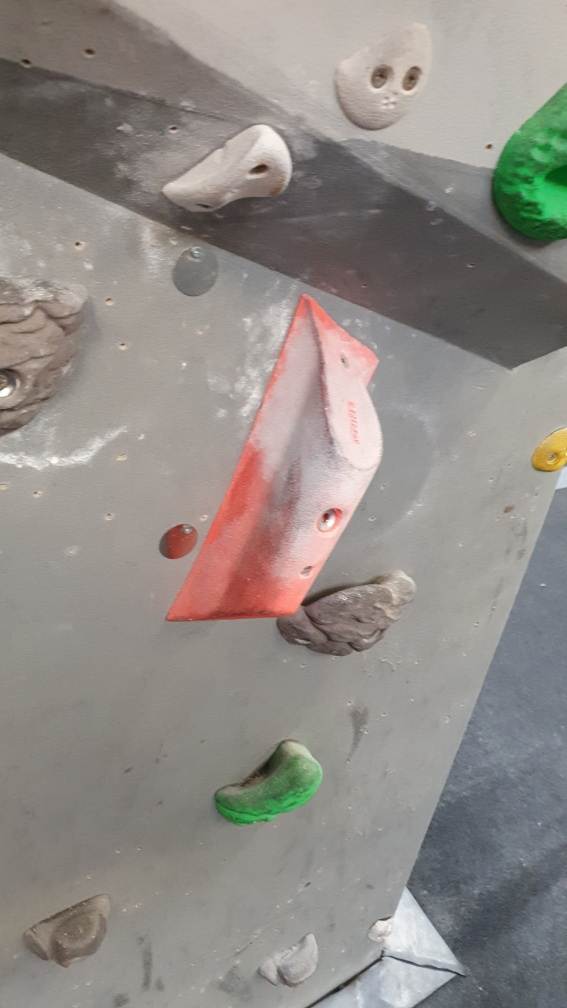Hand Start: (171, 243, 223, 297), (156, 518, 201, 564)
Jug: (270, 563, 414, 661), (213, 737, 330, 830), (253, 927, 324, 991)
Pinch: (162, 293, 389, 631)
